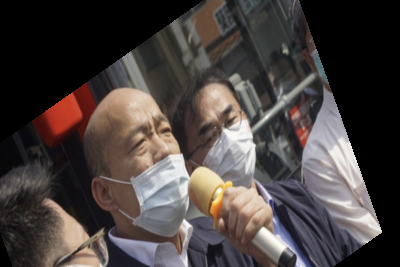mask_weared_incorrect: (81, 83, 193, 244)
